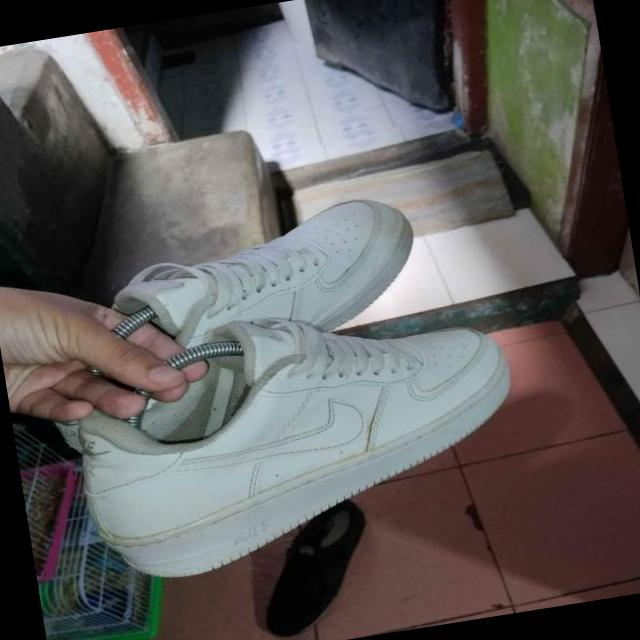nike_fake_airforce: (59, 278, 536, 592), (32, 191, 442, 458)
